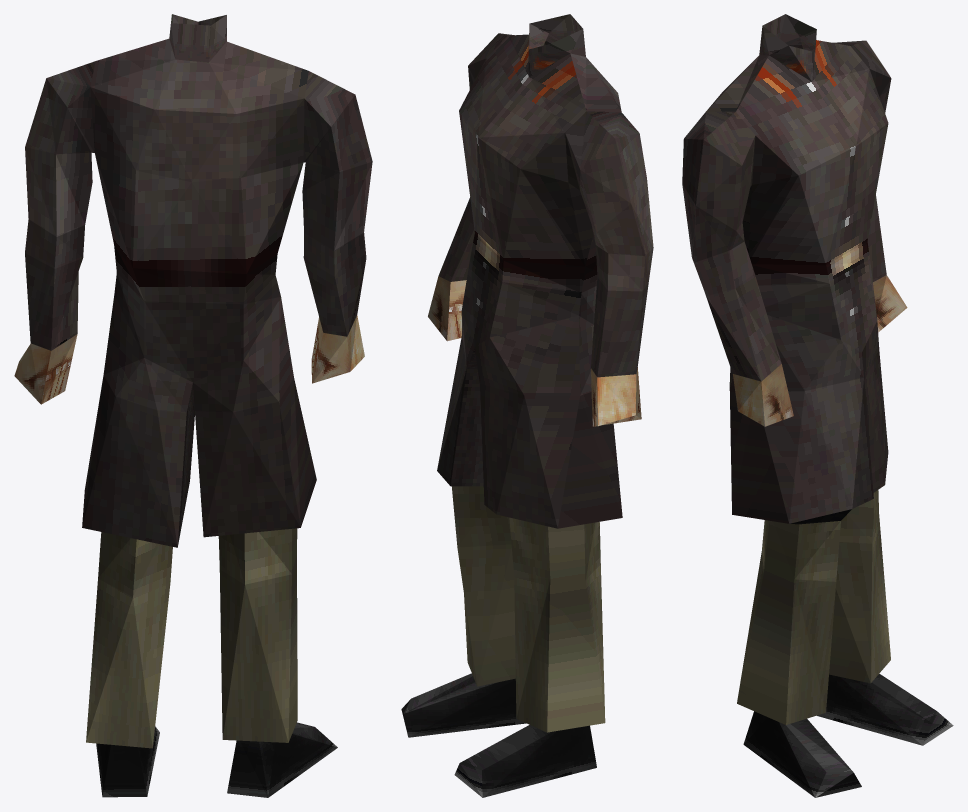
File: primary_006.glb
3 renders of one model, left to right at view 1: azimuth 30°, elevation 25°; view 2: azimuth 150°, elevation 25°; view 3: azimuth 270°, elevation 25°, orthographic. The views are drawn at different scales.
Visible parts, largest first — view 1: Object; view 2: Object; view 3: Object.
Part boxes in pixels (<box>): Object: <box>14,14,372,797</box>; Object: <box>401,14,653,797</box>; Object: <box>682,14,953,797</box>.
Size of the model in its own units: 0.6954 by 1.8 by 0.6244.
77 materials, 77 textured.
